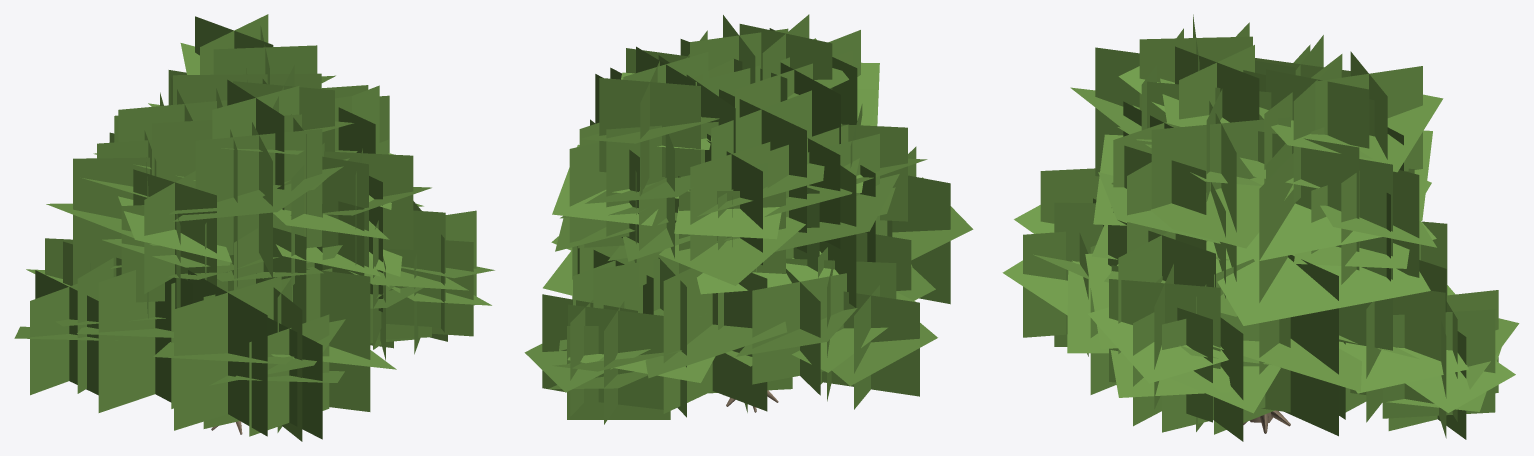
The model's file is pommier_2_loin.glb.
3 renders of one model, left to right at view 1: azimuth 30°, elevation 25°; view 2: azimuth 150°, elevation 25°; view 3: azimuth 270°, elevation 25°, orthographic. The views are drawn at different scales.
Visible parts, largest first — view 1: Pommier_T2_Leger_Loin; view 2: Pommier_T2_Leger_Loin; view 3: Pommier_T2_Leger_Loin.
Boxes of the visible parts, x1,y1,x2,y2 form: Pommier_T2_Leger_Loin: (14, 14, 494, 441); Pommier_T2_Leger_Loin: (524, 14, 973, 424); Pommier_T2_Leger_Loin: (1002, 14, 1519, 441).
Size of the model in its own units: 7.56 by 6.04 by 7.46.
